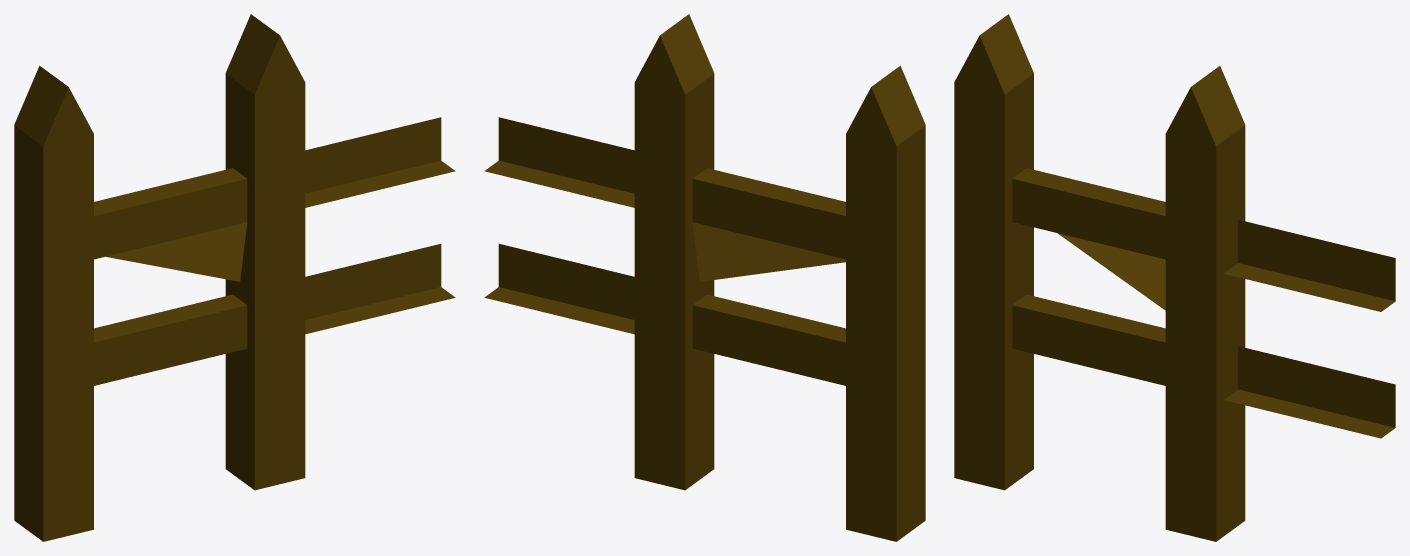
The model's file is open fence.fbx.
3 renders of one model, left to right at view 1: azimuth 30°, elevation 25°; view 2: azimuth 150°, elevation 25°; view 3: azimuth 330°, elevation 25°, orthographic.
Visible parts, largest first — view 1: Cube; view 2: Cube; view 3: Cube.
Boxes of the visible parts, x1,y1,x2,y2 form: Cube: (14,14,455,541); Cube: (484,14,925,541); Cube: (954,14,1395,541).
Bounding box in the file's own units: 287 × 294 × 34.69.
